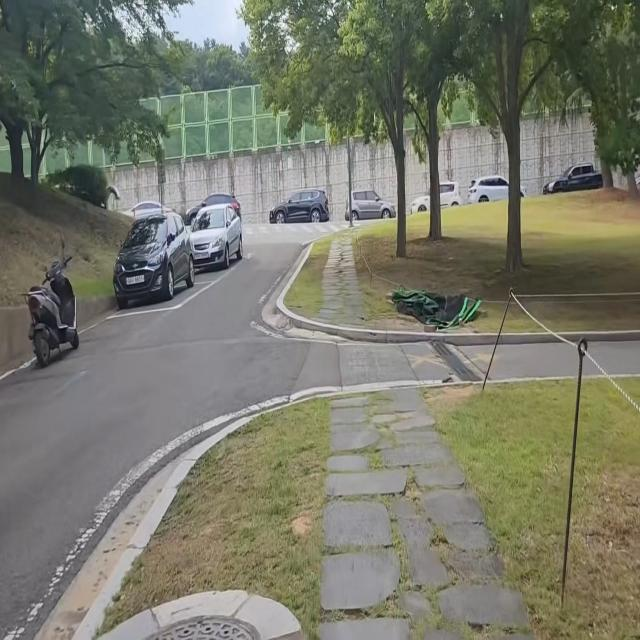obstacle: (104, 196, 248, 311), (18, 230, 83, 385)
sidewalk: (312, 384, 550, 640), (320, 230, 367, 327)
